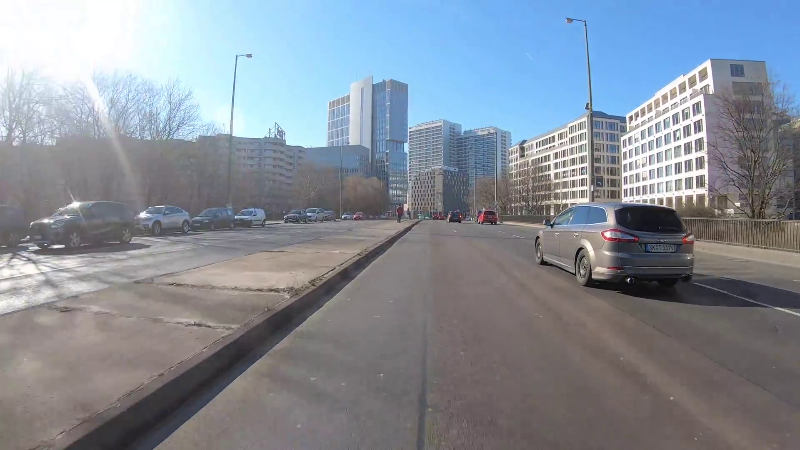Plate: (643, 241, 677, 253)
